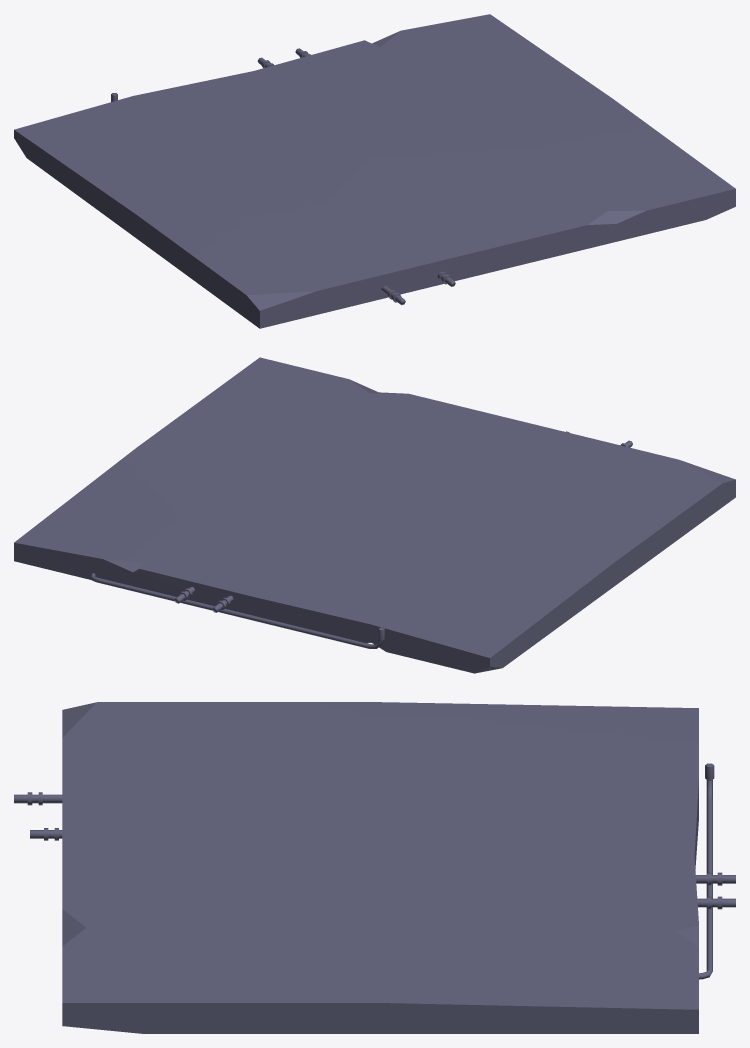
The model's file is concreteFloor3_LP.fbx.
The picture shows the model from 3 angles, top to bottom: view 1: azimuth 30°, elevation 25°; view 2: azimuth 150°, elevation 25°; view 3: azimuth 270°, elevation 25°; orthographic projection. The views are drawn at different scales.
Parts seen in each view (by area): view 1: cFloor14_LP, cFloor11_LP; view 2: cFloor14_LP, cFloor11_LP; view 3: cFloor14_LP, cFloor11_LP.
Part boxes in pixels (box(x1,y1,x2,y2)): cFloor14_LP: box(14, 14, 735, 328); cFloor11_LP: box(111, 48, 455, 305); cFloor14_LP: box(14, 357, 735, 673); cFloor11_LP: box(90, 431, 632, 648); cFloor14_LP: box(62, 702, 698, 1033); cFloor11_LP: box(14, 763, 735, 979).
Size of the model in its own units: 803 by 41.99 by 814.
